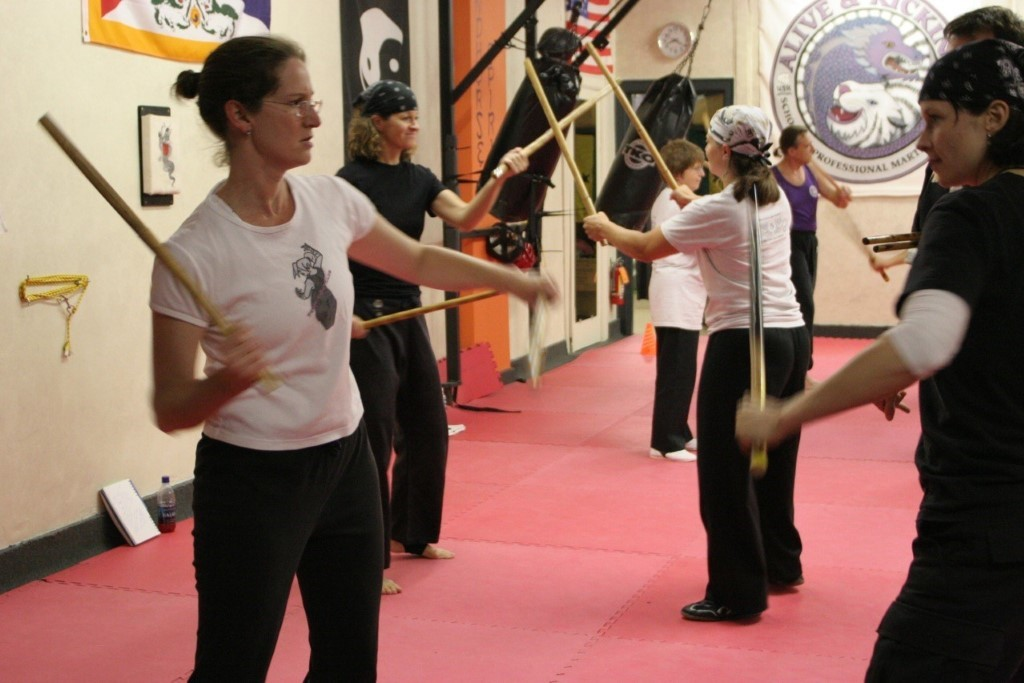baston_e: (42, 128, 277, 375), (524, 65, 603, 239), (584, 54, 675, 181), (503, 88, 604, 172), (742, 194, 773, 460), (365, 287, 492, 331), (812, 161, 840, 189), (873, 230, 921, 244), (882, 241, 916, 253)
baston_v: (742, 446, 778, 482), (260, 373, 286, 395), (33, 109, 53, 129), (487, 167, 502, 182), (745, 180, 760, 193), (858, 233, 873, 246), (520, 55, 533, 66), (871, 242, 882, 253), (582, 38, 592, 49), (882, 273, 892, 283), (600, 239, 611, 247)
